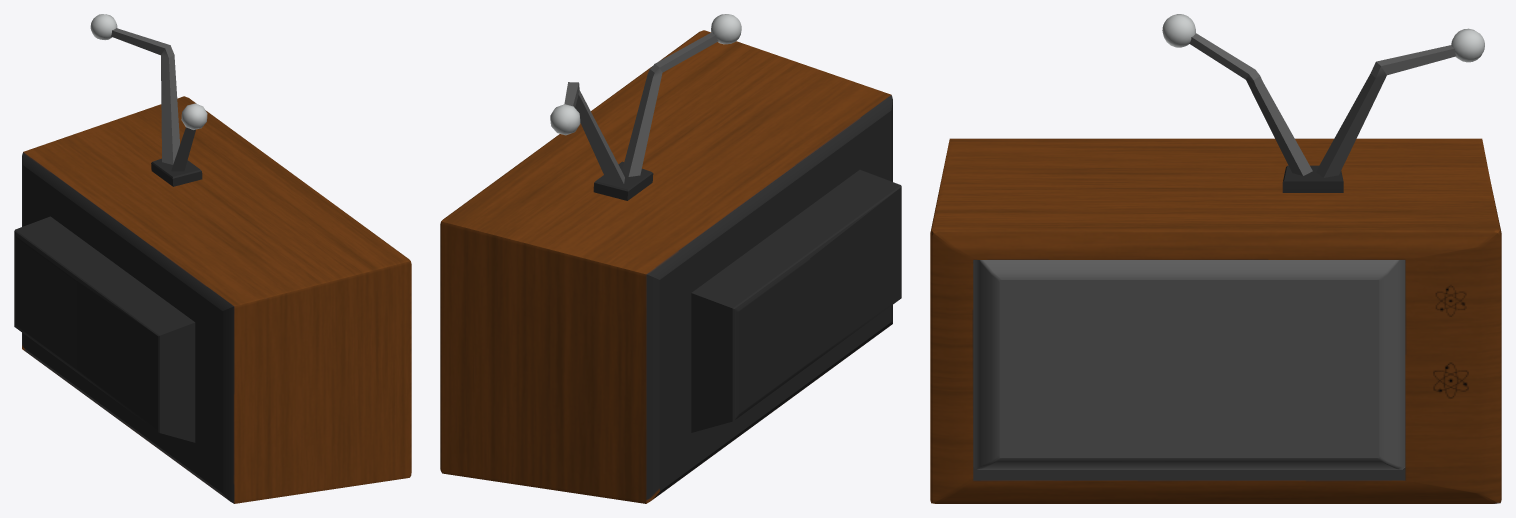
The model's file is MissWaysTV.fbx.
3 renders of one model, left to right at view 1: azimuth 30°, elevation 25°; view 2: azimuth 150°, elevation 25°; view 3: azimuth 270°, elevation 25°, orthographic. The views are drawn at different scales.
Visible parts, largest first — view 1: pSphere3; view 2: pSphere3; view 3: pSphere3.
Boxes of the visible parts, x1=… form: pSphere3: x1=14, y1=14, x2=411, y2=503; pSphere3: x1=440, y1=14, x2=901, y2=503; pSphere3: x1=930, y1=14, x2=1501, y2=503.
Bounding box in the file's own units: 0.1629 × 0.2366 × 0.2941.
1 material, 1 textured.
